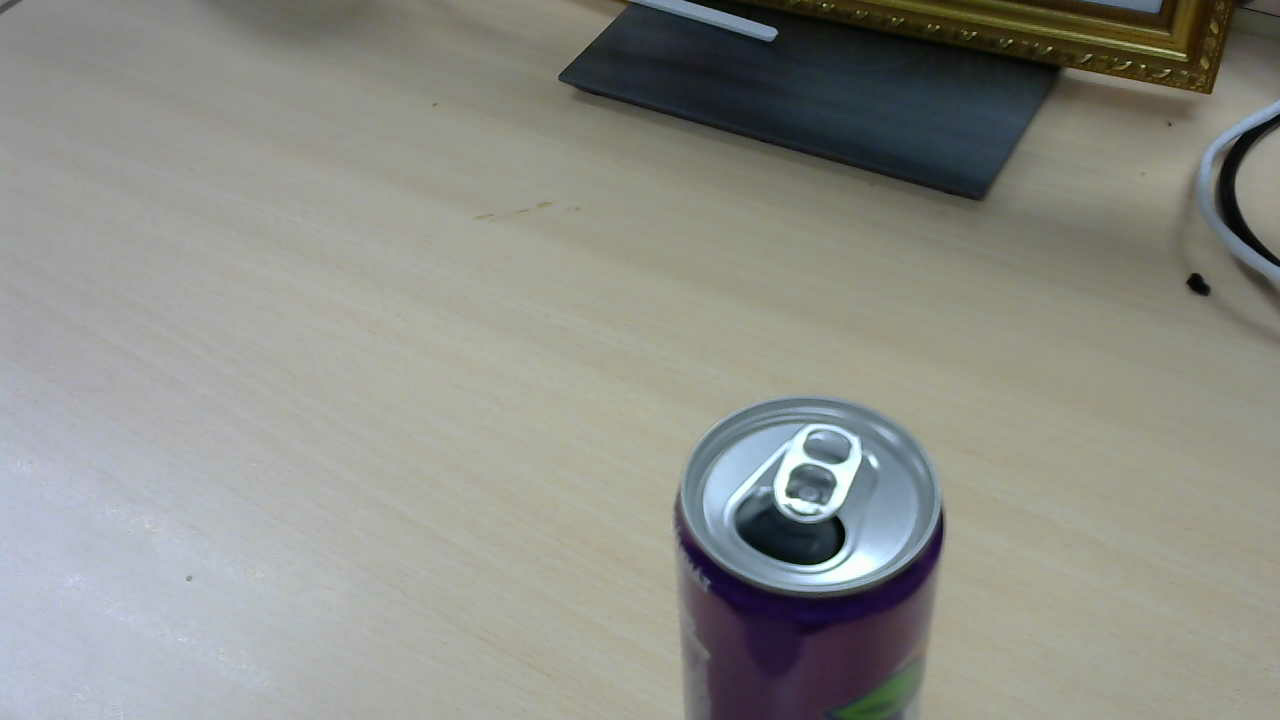Fanta: (681, 397, 954, 697)
